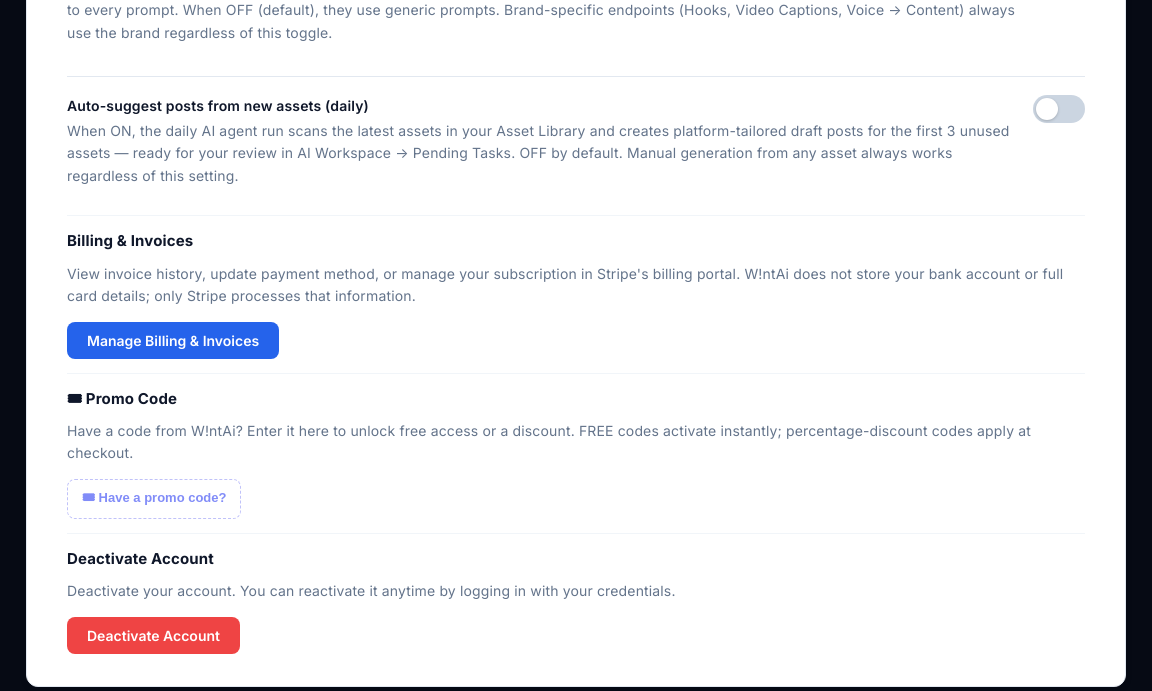
Test: AccountSettings › Cancel button hides deactivation form
(page scrolled)
Click the button "Deactivate Account": point(154, 635) [67,617,240,654]
(page scrolled)
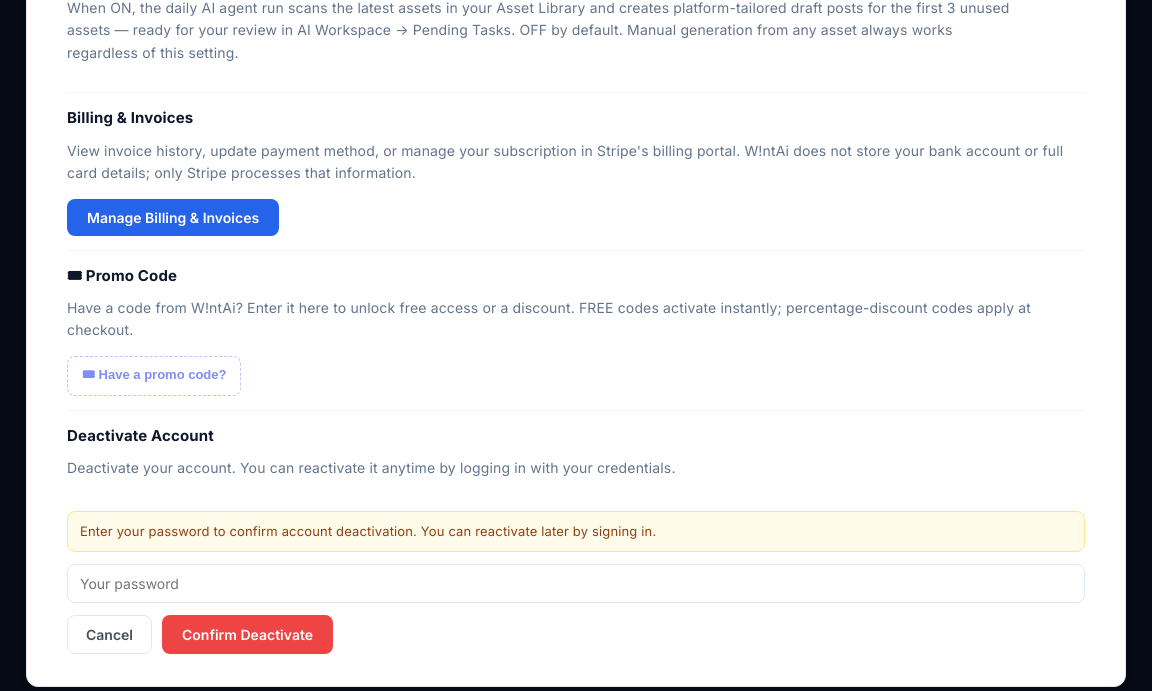
Click the button "Cancel": point(110, 635) [67,615,152,654]
(page scrolled)
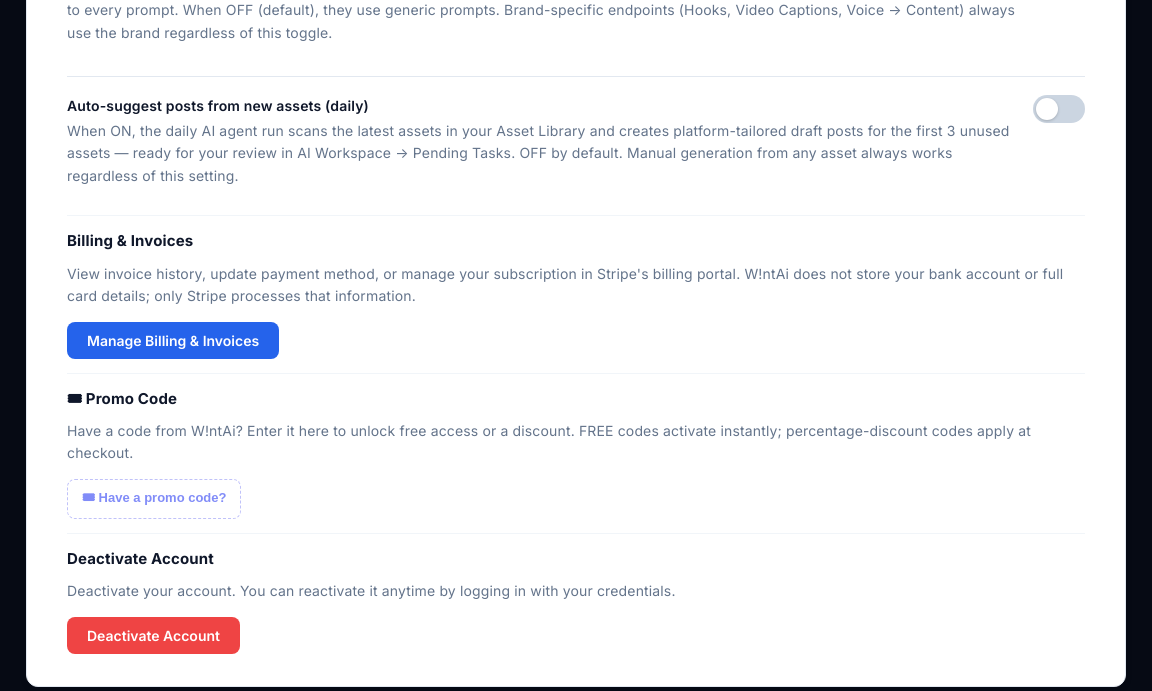
Check: the text with placeholder "your password" is gone
